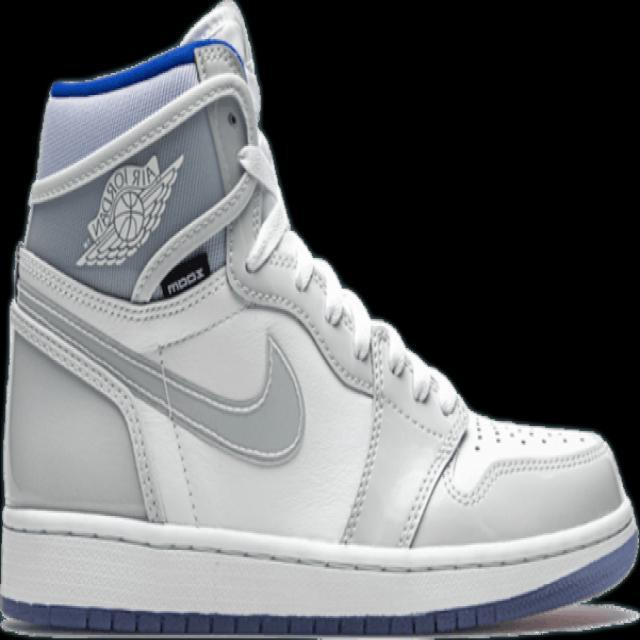J1_InsoleChar: (0, 0, 639, 639)
J1_ShoeLogo: (74, 151, 185, 268), (149, 247, 211, 301)
J1_StitchPattern: (7, 241, 467, 549), (232, 232, 464, 545), (0, 508, 638, 577), (7, 296, 168, 525), (336, 319, 465, 546), (446, 417, 609, 508), (337, 321, 390, 546), (395, 414, 468, 549), (153, 354, 203, 528), (472, 414, 596, 453)
